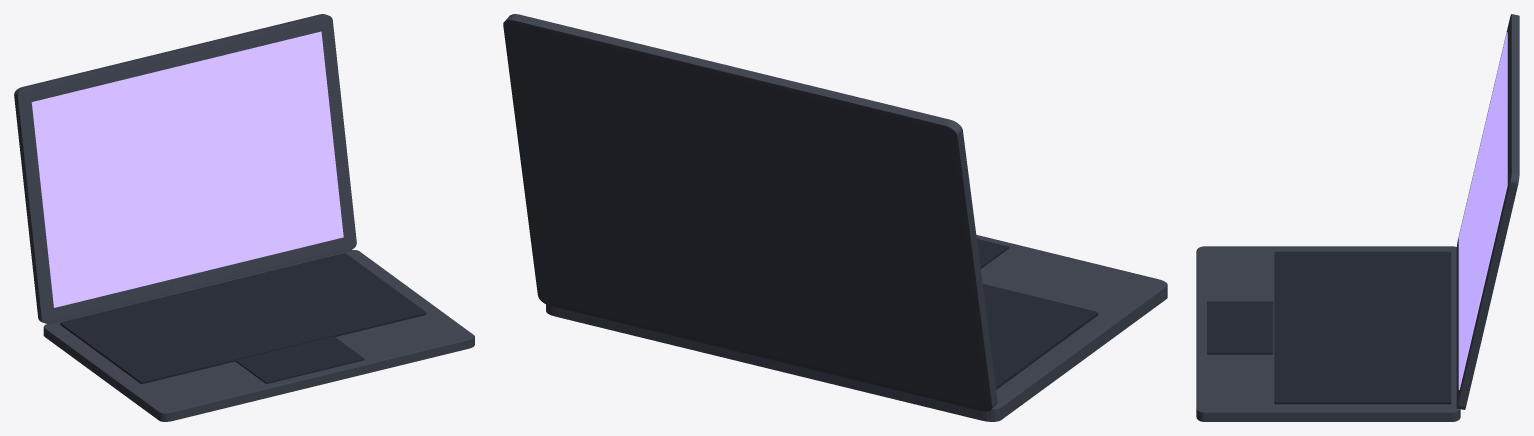
The model's file is laptop.glb.
The picture shows the model from 3 angles, left to right: view 1: azimuth 30°, elevation 25°; view 2: azimuth 150°, elevation 25°; view 3: azimuth 270°, elevation 25°; orthographic projection. The views are drawn at different scales.
Visible parts, largest first — view 1: ScreenFace, Keys, Lid, Deck, Trackpad; view 2: Lid, Deck, Keys; view 3: Keys, Deck, ScreenFace, Lid, Trackpad.
Part boxes in pixels (x1,y1,x2,y2): ScreenFace: (31,31,343,307); Keys: (60,253,426,383); Lid: (14,14,356,323); Deck: (43,250,474,421); Trackpad: (235,336,364,383); Lid: (503,14,997,411); Deck: (546,235,1167,421); Keys: (982,284,1097,389); Keys: (1274,251,1451,404); Deck: (1196,246,1460,421); ScreenFace: (1458,32,1507,389); Lid: (1456,14,1519,409); Trackpad: (1207,301,1273,354).
Size of the model in its own units: 3.2 by 2.2 by 2.63.
